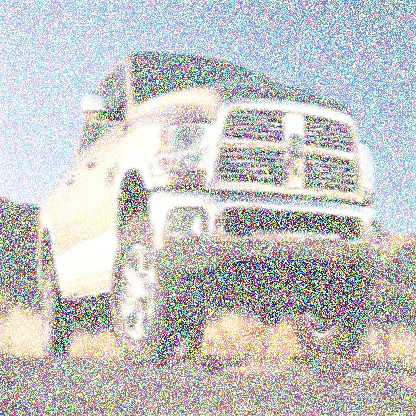Vehicle: (37, 51, 385, 371)
